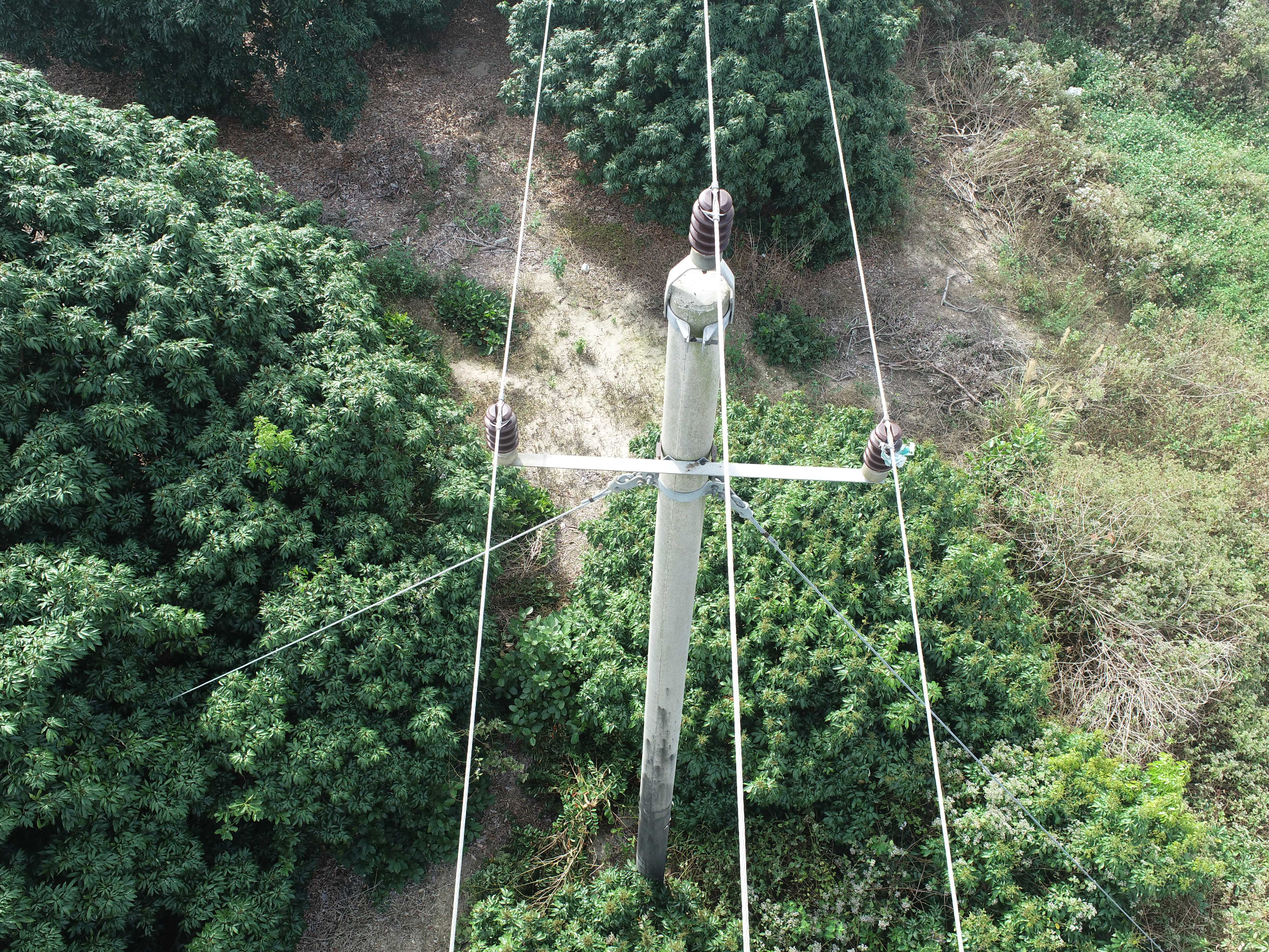异物: (879, 439, 915, 469)
